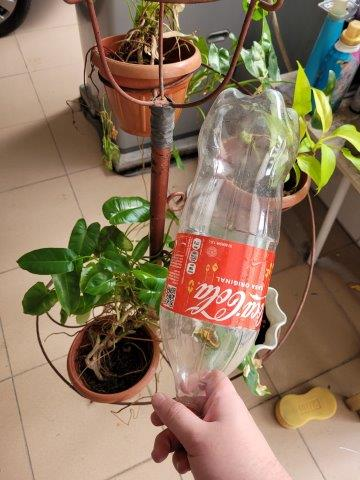botolplastik: (159, 88, 292, 414)
